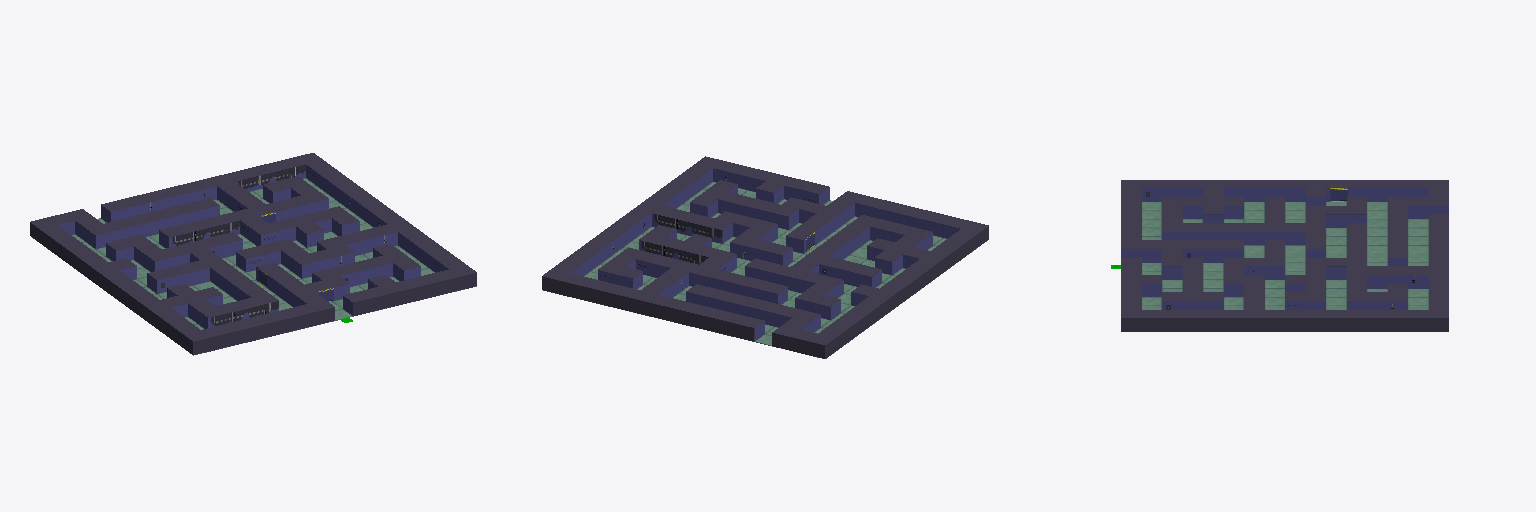
3 renders of one model, left to right at view 1: azimuth 30°, elevation 25°; view 2: azimuth 150°, elevation 25°; view 3: azimuth 270°, elevation 25°, orthographic.
Parts seen in each view (by area): view 1: polySurface2; view 2: polySurface2; view 3: polySurface2.
Boxes of the visible parts, x1,y1,x2,y2 form: polySurface2: [30, 153, 476, 355]; polySurface2: [542, 156, 988, 358]; polySurface2: [1111, 180, 1448, 331].
Size of the model in its own units: 768 by 36 by 792.
Materials: 1 (1 with a texture image).